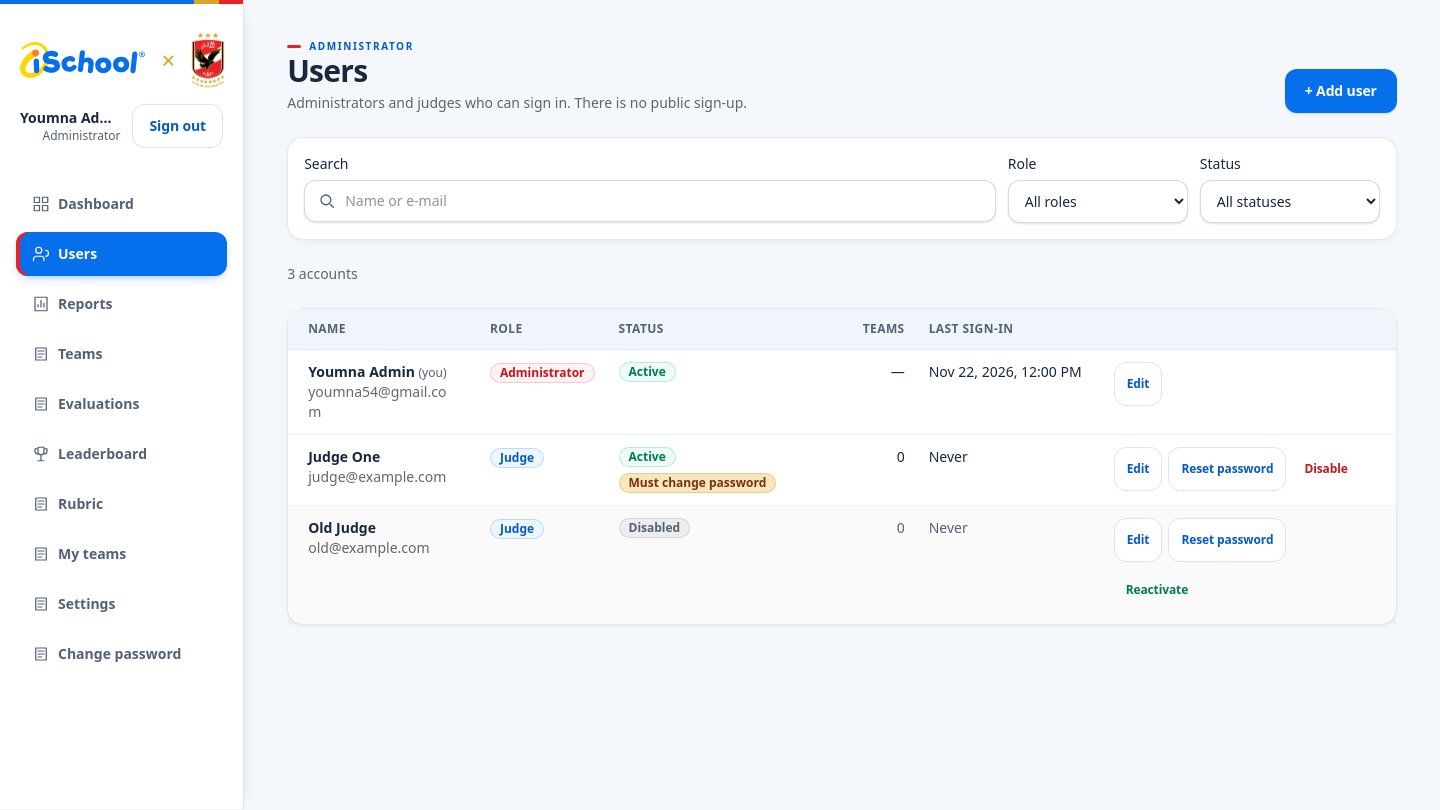
Test: Users page › creates a judge and shows the temporary password once, behind an acknowledgement
Expected: the table is shown, [288, 309, 1396, 624]
Click the button "+ Add user" at (1341, 91), box [1285, 69, 1397, 113]
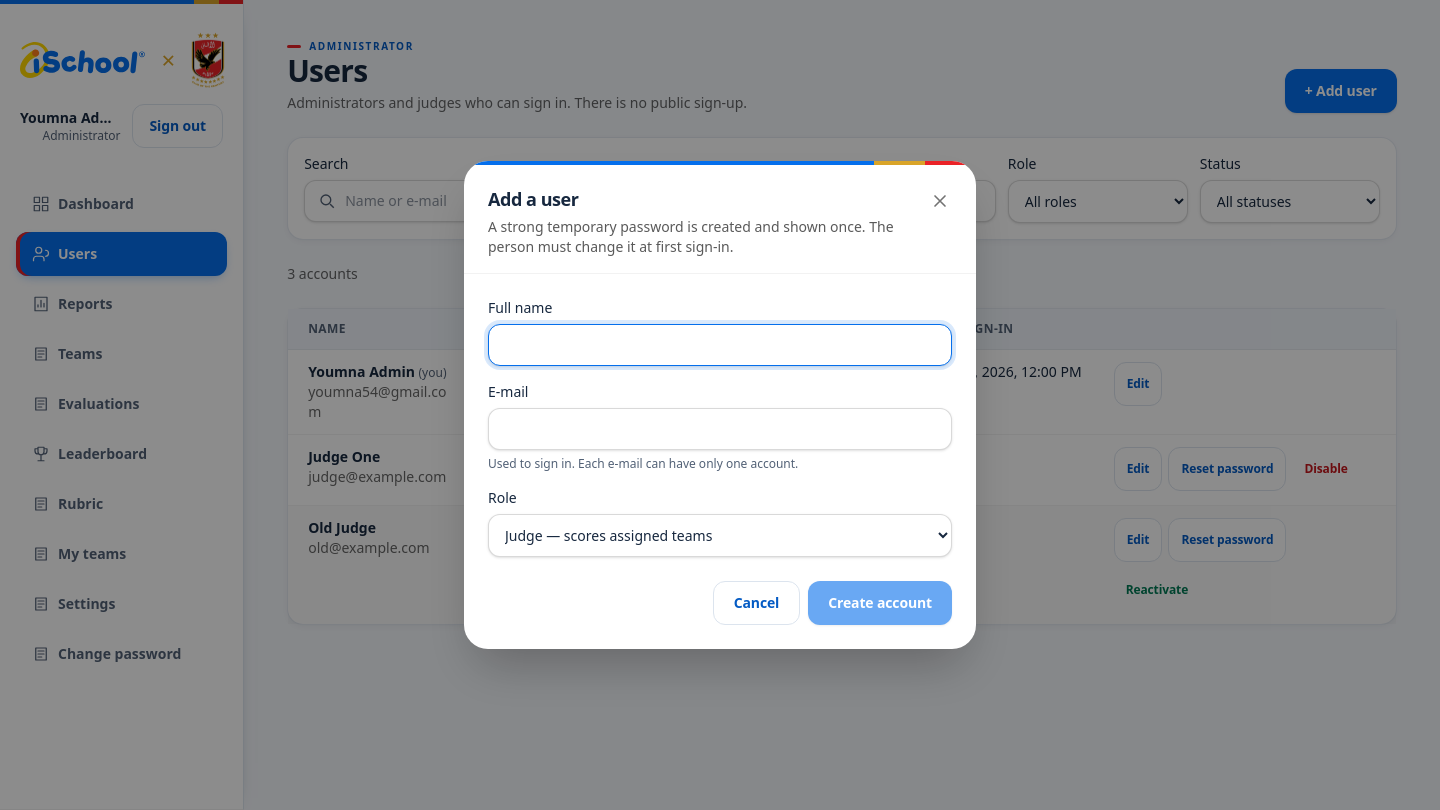
Type "Mona Hassan" into the field labelled "Full name" at (720, 345), box [488, 324, 952, 366]
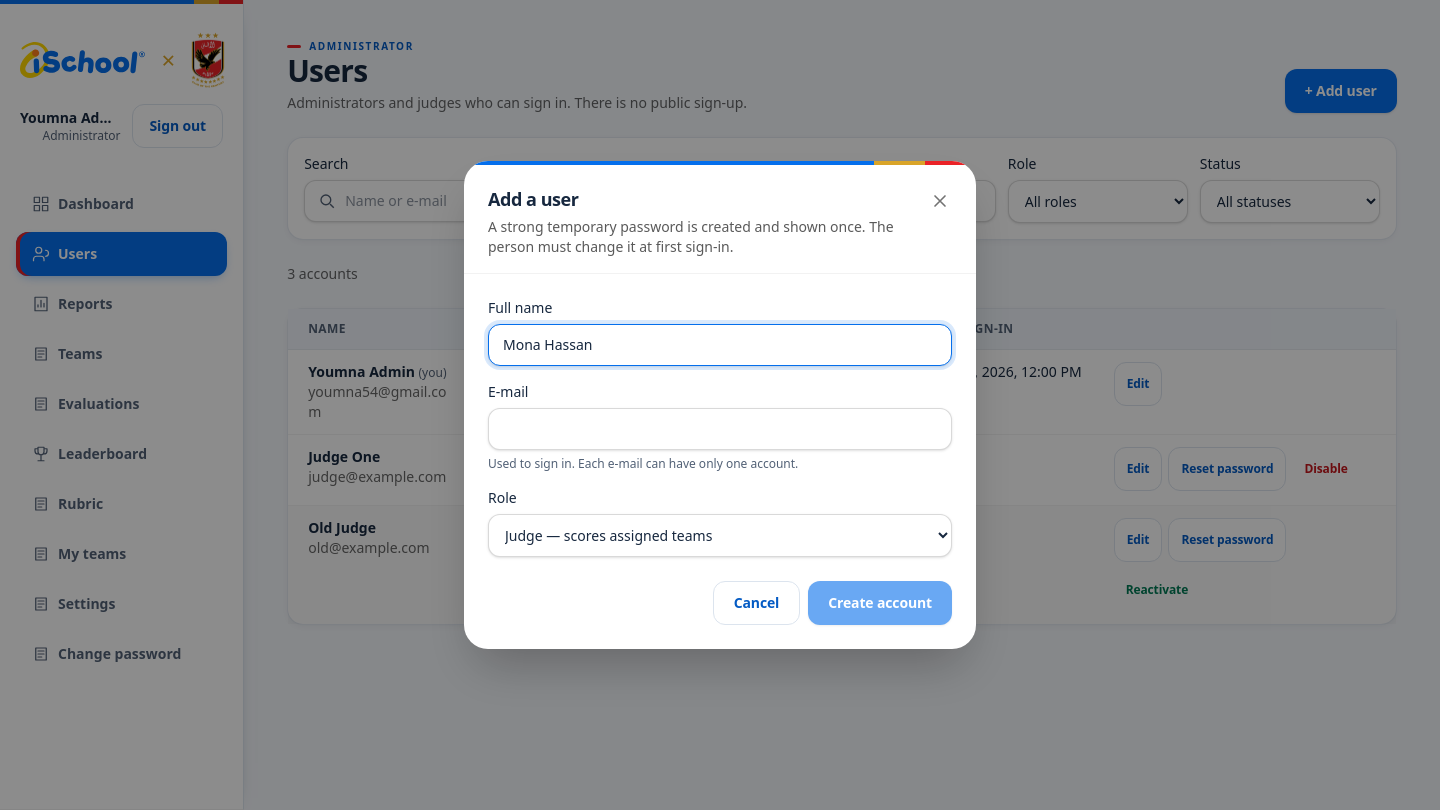
Type "mona@example.com" into the field labelled "E-mail" at (720, 429), box [488, 408, 952, 450]
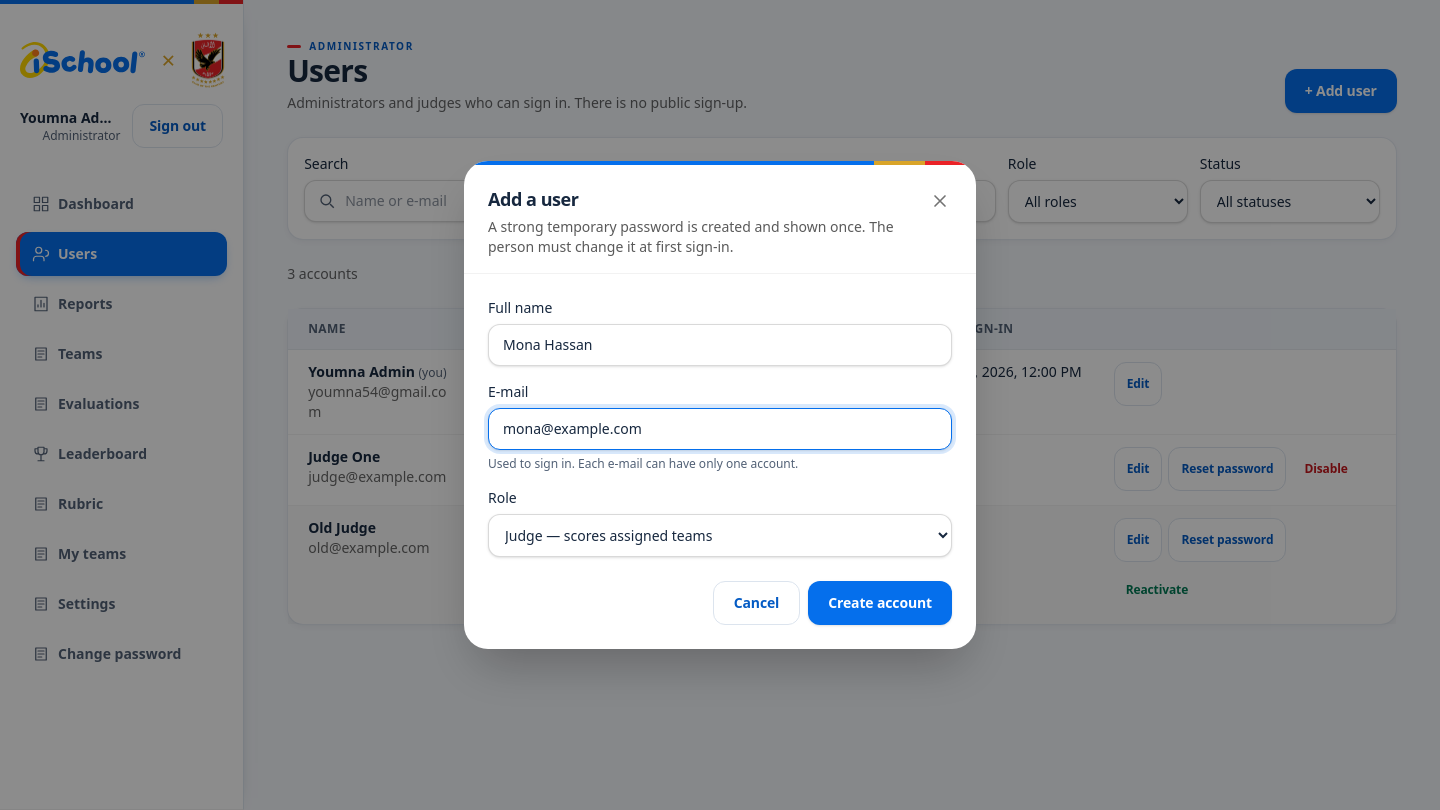
Click the button "Create account" at (880, 603), box [808, 581, 952, 625]
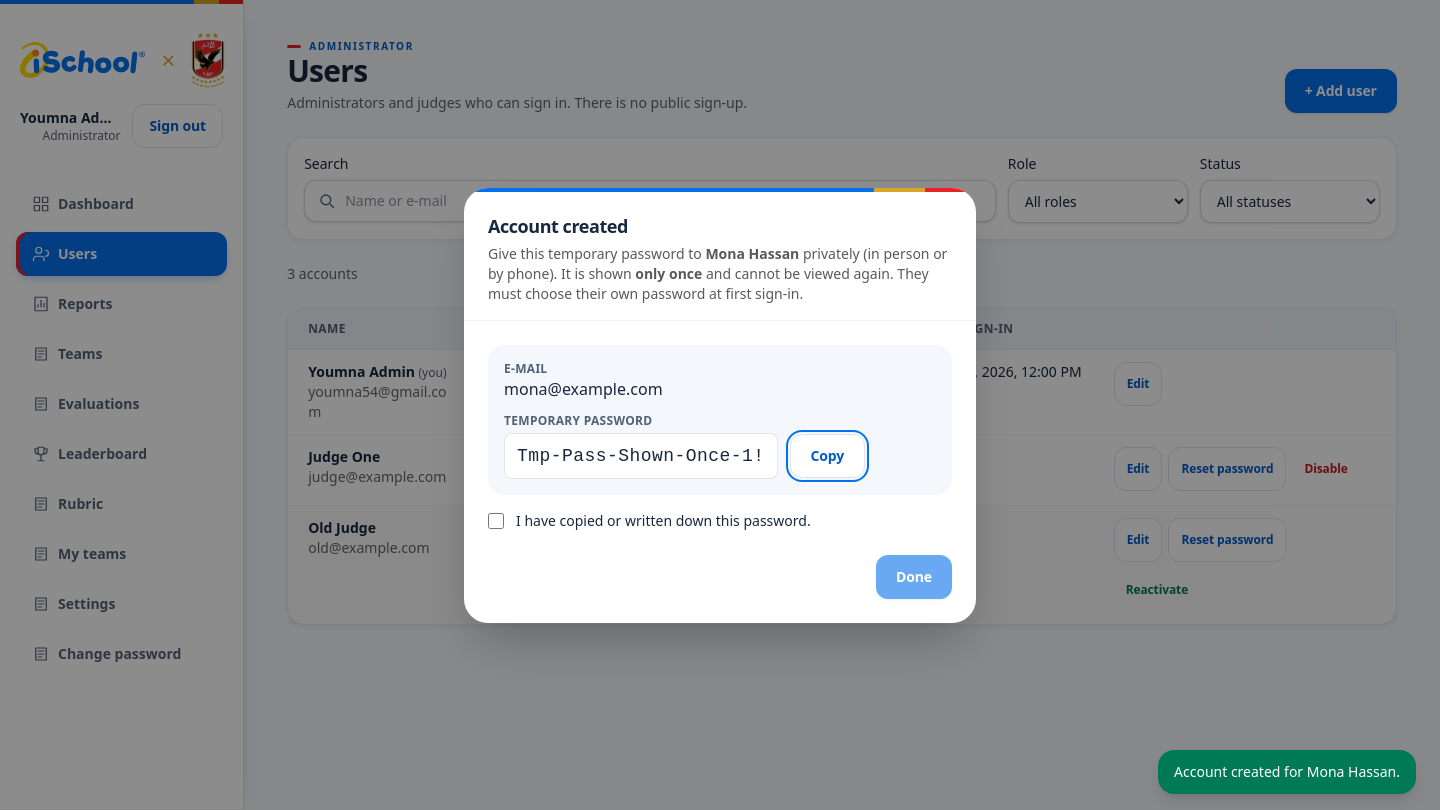
Expected: the text with test id "temporary-password" reads "Tmp-Pass-Shown-Once-1!", [517, 446, 764, 466]
Expected: the button "Done" is disabled, [876, 554, 952, 598]
Click the checkbox labelled "I have copied or written down this password." at (496, 520), box [488, 512, 504, 528]
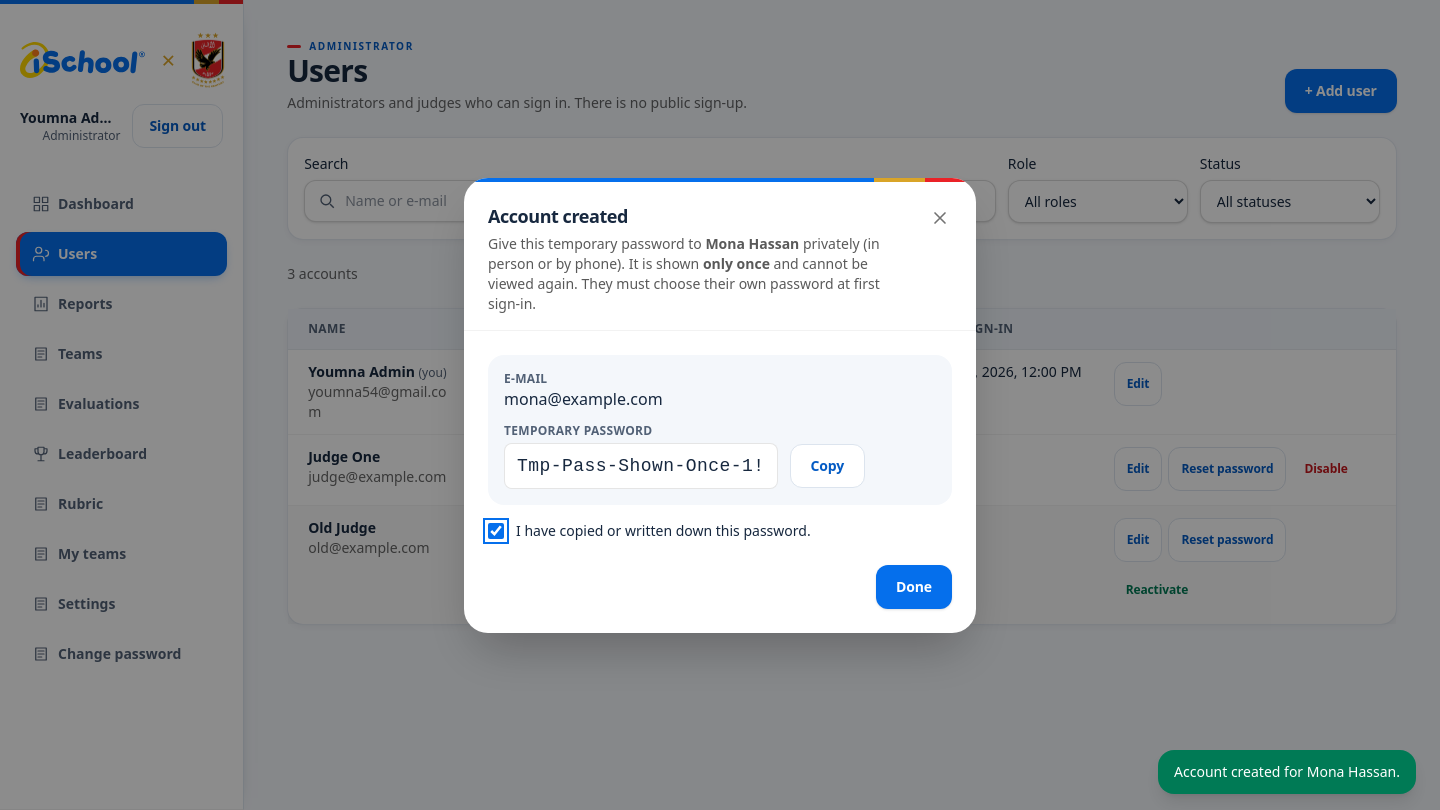
Click the button "Done" at (914, 586), box [876, 564, 952, 608]
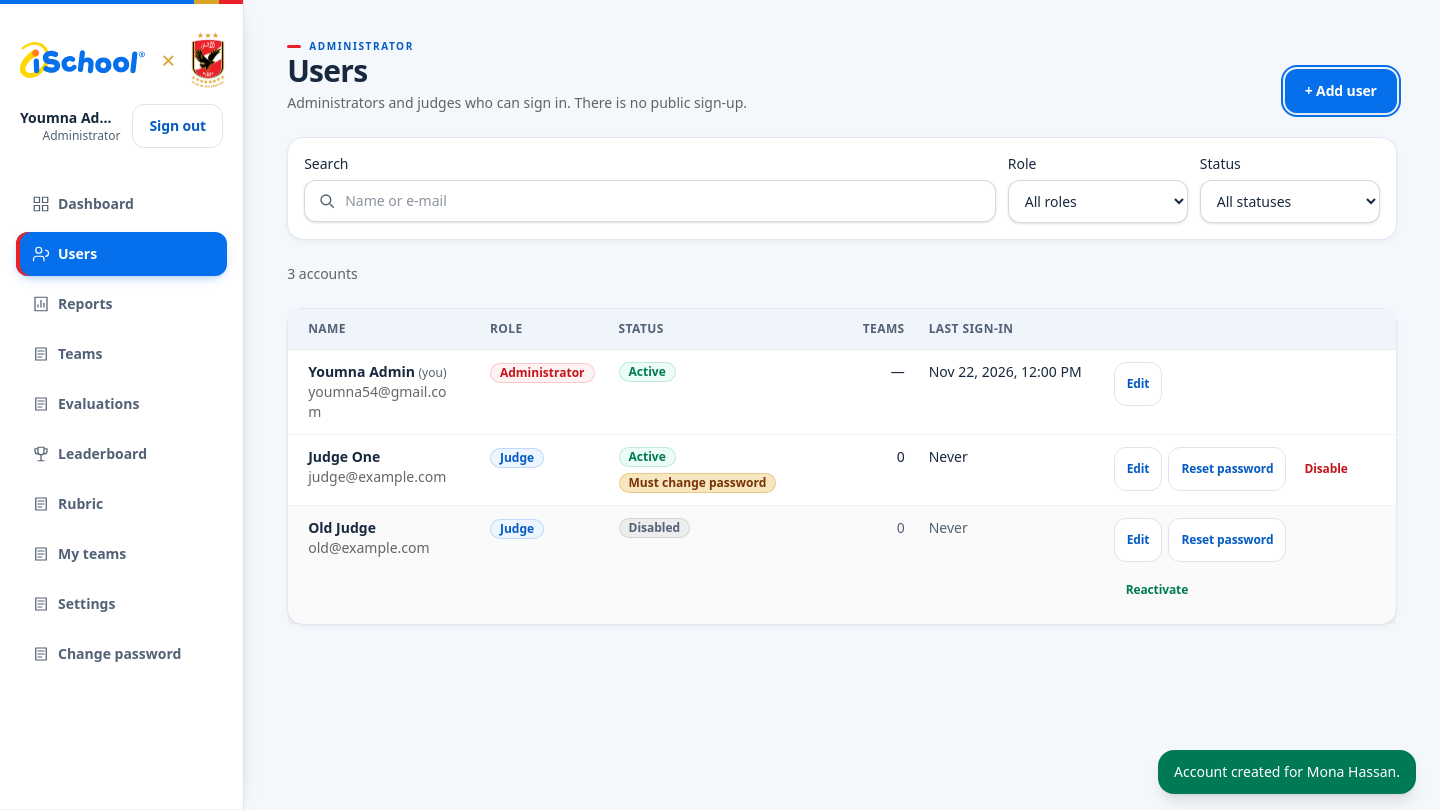
Expected: the text "Account created for Mona Hassan." is shown, [1158, 750, 1416, 794]
Expected: the text "Tmp-Pass-Shown-Once-1!" is gone
